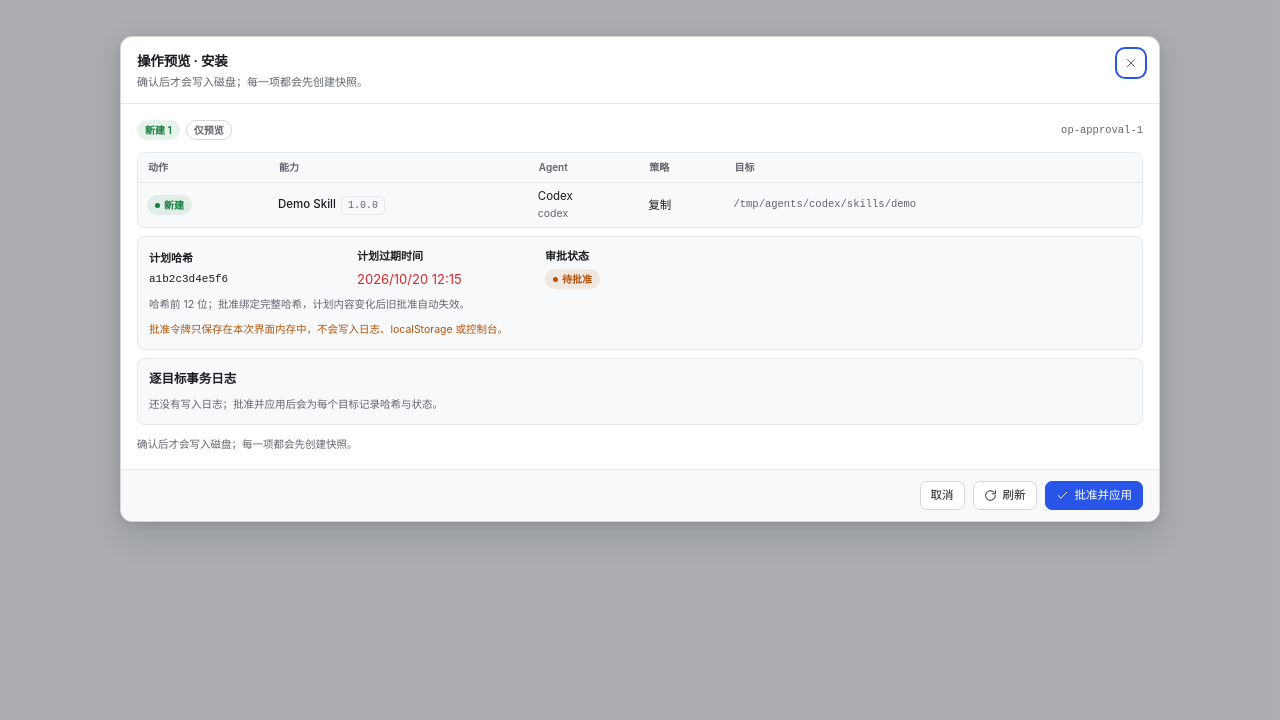
Test: PlanDialog two-step approval › shows the stale-plan explanation when approval is rejected
Step 1. Click the button "批准并应用" → (1094,496), box x1=1044 y1=481 x2=1143 y2=510
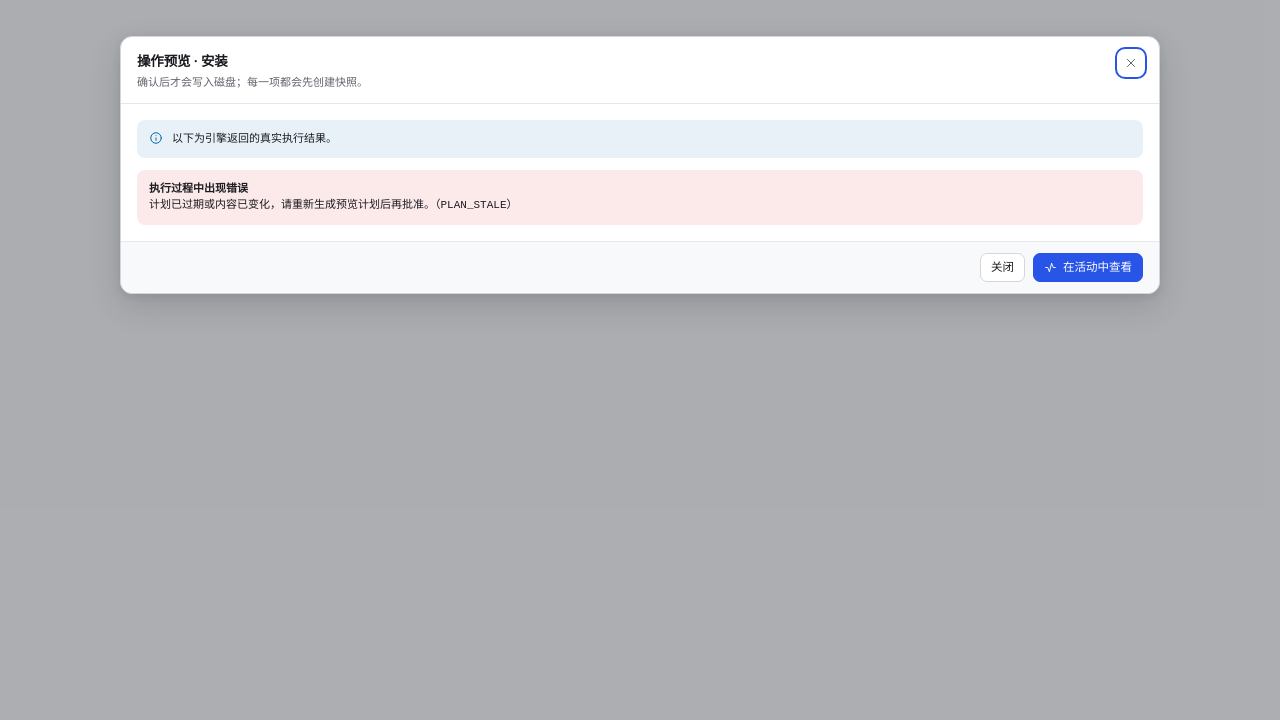
Expected: the text "计划已过期或内容已变化，请重新生成预览计划后再批准。" is shown, x1=149 y1=200 x2=518 y2=212
Expected: the text "PLAN_STALE" is shown, x1=149 y1=200 x2=518 y2=212
